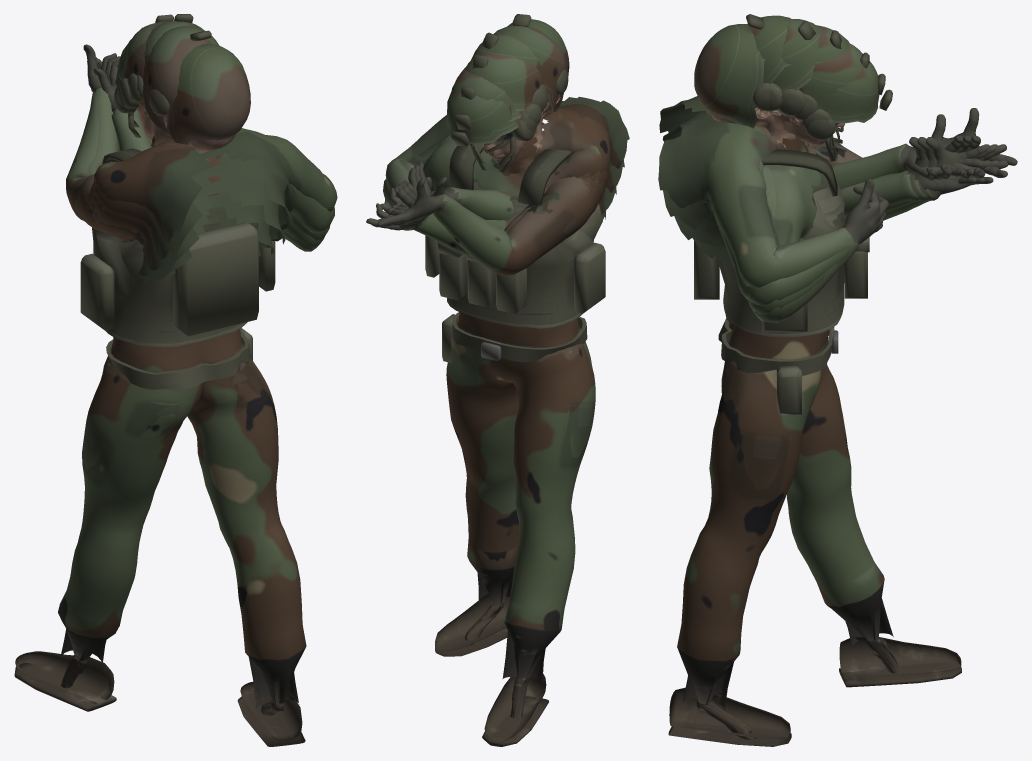
File: crew_redeye.glb
3 renders of one model, left to right at view 1: azimuth 30°, elevation 25°; view 2: azimuth 150°, elevation 25°; view 3: azimuth 270°, elevation 25°, orthographic. The views are drawn at different scales.
Visible parts, largest first — view 1: turret, ca5, th5, ca4, ca3, th4, ca2, ca0, ca1, th2, th3, th0; view 2: turret, ca0, ca5, th0, th2, th4, ca2, th1, th3, th5, ca1, ca3 (+1 smaller); view 3: turret, ca5, th5, ca4, ca0, ca3, th0, ca2, ca1, th3, th4, th1 (+1 smaller).
Part boxes in pixels (left/top/right/bottom): turret: left=14, top=148, right=306, bottom=746; ca5: left=93, top=68, right=337, bottom=254; th5: left=149, top=30, right=250, bottom=152; ca4: left=93, top=61, right=332, bottom=260; ca3: left=90, top=56, right=334, bottom=273; th4: left=137, top=14, right=219, bottom=135; ca2: left=89, top=53, right=329, bottom=282; ca0: left=66, top=46, right=317, bottom=251; ca1: left=82, top=44, right=324, bottom=284; th2: left=119, top=21, right=169, bottom=138; th3: left=127, top=14, right=202, bottom=146; th0: left=114, top=44, right=212, bottom=168; turret: left=425, top=144, right=605, bottom=746; ca0: left=366, top=140, right=595, bottom=276; ca5: left=380, top=96, right=629, bottom=220; th0: left=447, top=90, right=536, bottom=172; th2: left=461, top=52, right=548, bottom=173; th4: left=481, top=25, right=565, bottom=176; ca2: left=379, top=138, right=605, bottom=256; th1: left=452, top=66, right=540, bottom=175; th3: left=471, top=34, right=548, bottom=176; th5: left=492, top=14, right=569, bottom=175; ca1: left=367, top=139, right=594, bottom=235; ca3: left=383, top=122, right=616, bottom=228; turret: left=668, top=137, right=961, bottom=746; ca5: left=658, top=96, right=983, bottom=287; th5: left=694, top=14, right=809, bottom=152; ca4: left=662, top=111, right=990, bottom=300; ca0: left=760, top=121, right=1017, bottom=322; ca3: left=674, top=135, right=998, bottom=305; th0: left=784, top=61, right=892, bottom=152; ca2: left=692, top=135, right=1008, bottom=314; ca1: left=716, top=108, right=1017, bottom=320; th3: left=760, top=19, right=841, bottom=146; th4: left=747, top=15, right=815, bottom=152; th1: left=776, top=43, right=885, bottom=151.
Bounding box in the file's own units: 0.6527 × 1.84 × 0.8687.
Materials: 1 (1 with a texture image).
